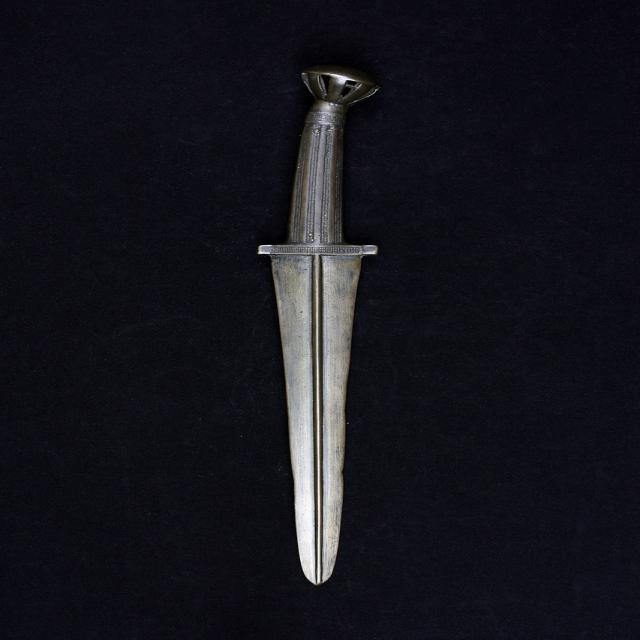Knife: (259, 66, 379, 584)
